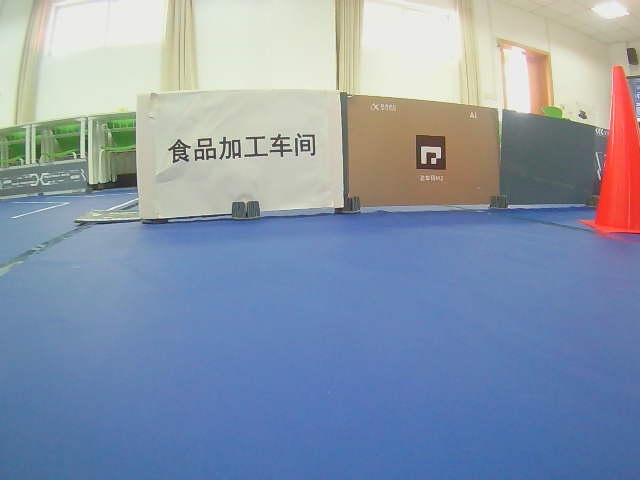target: (167, 131, 318, 165)
